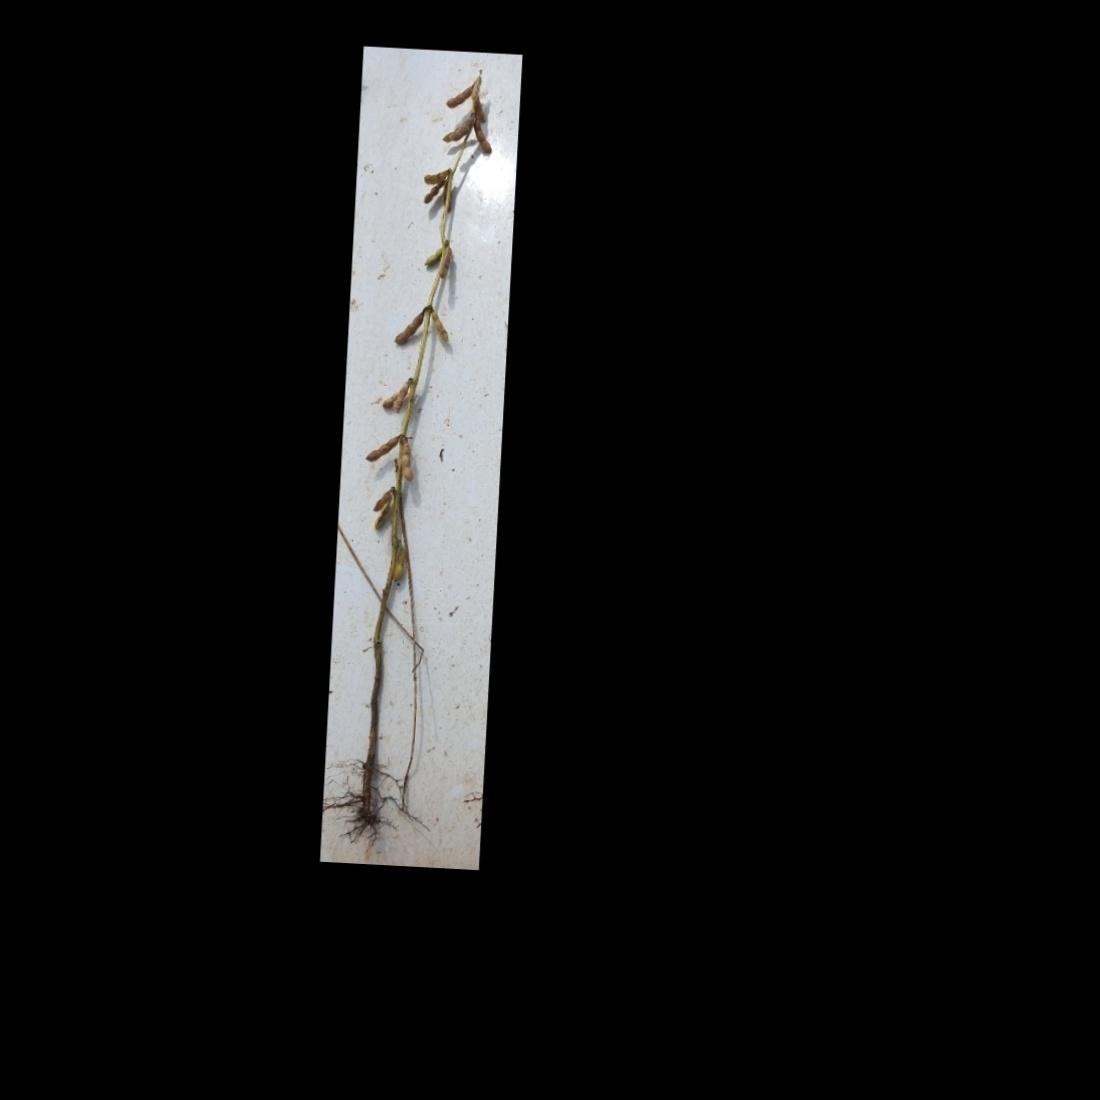pod: (392, 304, 427, 348), (364, 431, 399, 465), (423, 302, 450, 343), (394, 435, 416, 482), (444, 81, 472, 109), (472, 121, 495, 156), (393, 542, 408, 583), (422, 241, 445, 266), (422, 180, 444, 207), (438, 246, 450, 280)
soy: (326, 62, 508, 843)
